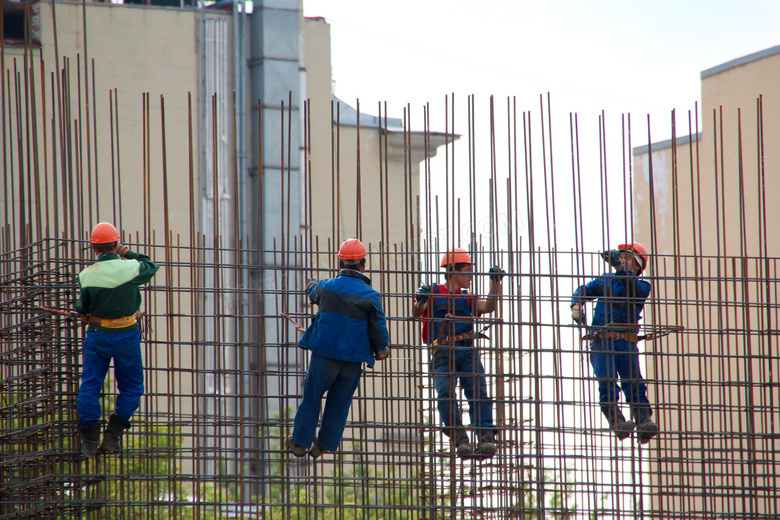safetyhat: (65, 218, 167, 458), (414, 242, 522, 466), (283, 228, 385, 457), (569, 231, 671, 437)
